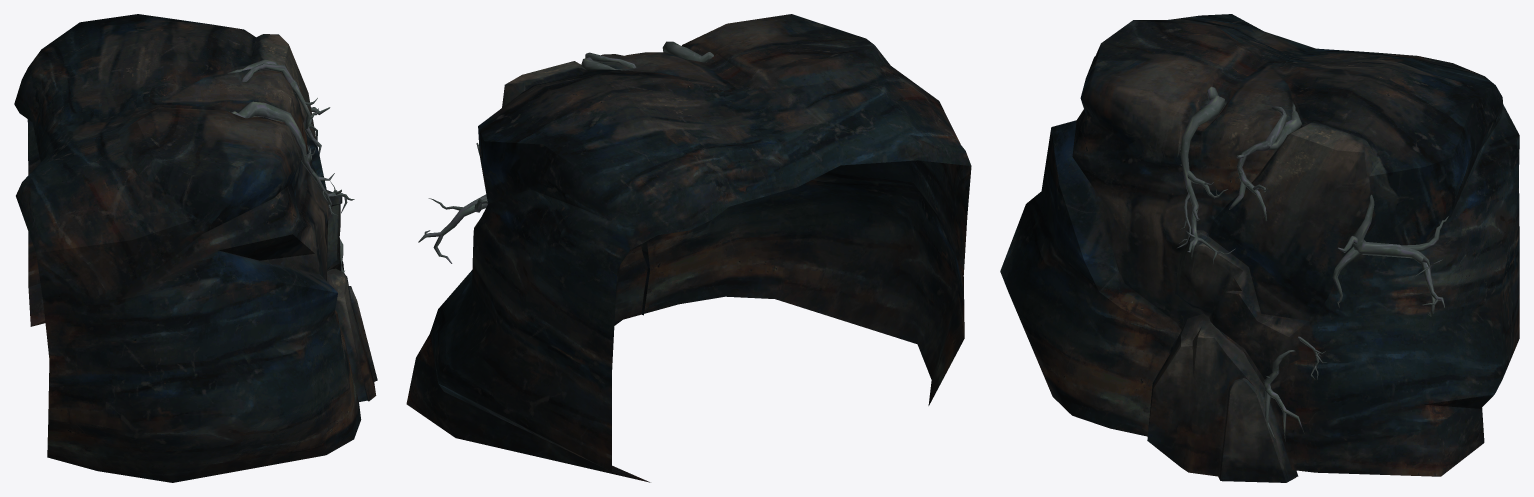
Rendered from Cliff_Climbable_5m_v3.fbx.
3 views of the same model, side by side, from view 1: azimuth 30°, elevation 25°; view 2: azimuth 150°, elevation 25°; view 3: azimuth 270°, elevation 25° (orthographic). The views are drawn at different scales.
Parts seen in each view (by area): view 1: MainCliffClimb; view 2: MainCliffClimb; view 3: MainCliffClimb.
Boxes of the visible parts, <box> form: MainCliffClimb: <box>14,14,377,482</box>; MainCliffClimb: <box>406,14,971,482</box>; MainCliffClimb: <box>1000,14,1519,482</box>.
Size of the model in its own units: 19.08 by 15.05 by 20.96.
Materials: 2 (2 with a texture image).
